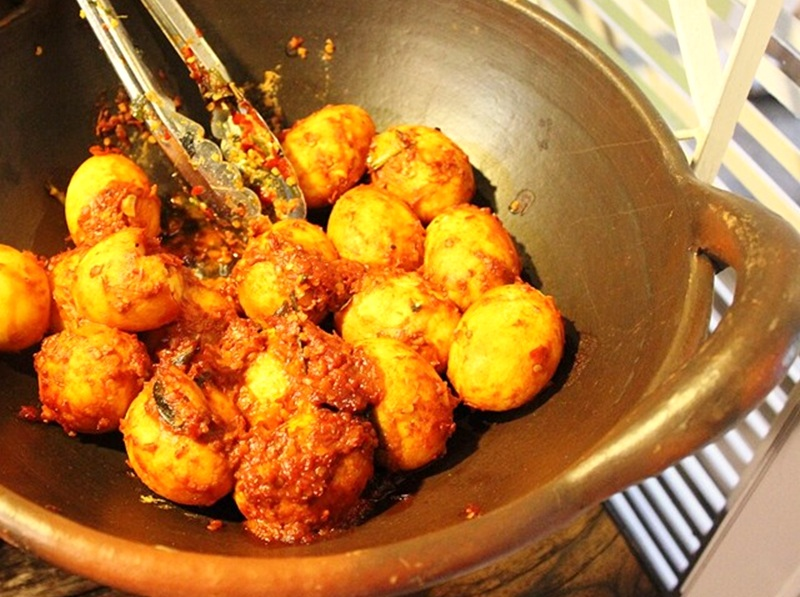Telur Balado: (8, 6, 680, 520)
